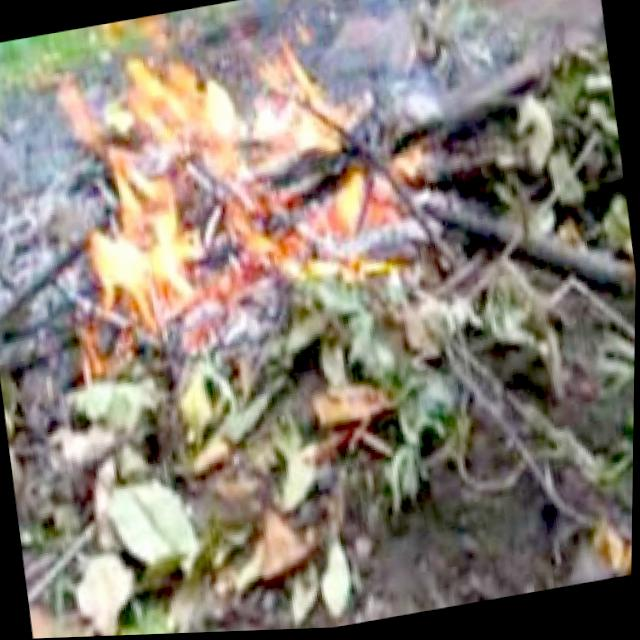helmet: (34, 0, 433, 346)
